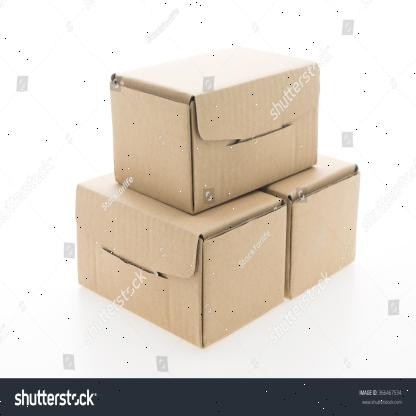box: (191, 65, 320, 214), (200, 197, 289, 347), (289, 163, 360, 297)
